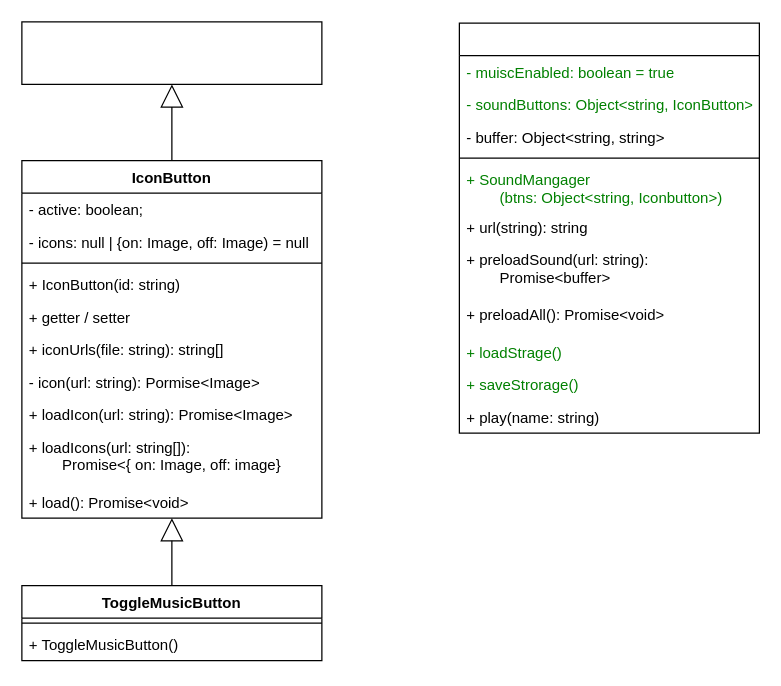
This 781x686 diagram has some shape labels left out. Here are the shapes that lost their labels. From the top down, the box of each, then its label:
(21, 21, 322, 84): Button
(458, 22, 759, 433): SoundManager
